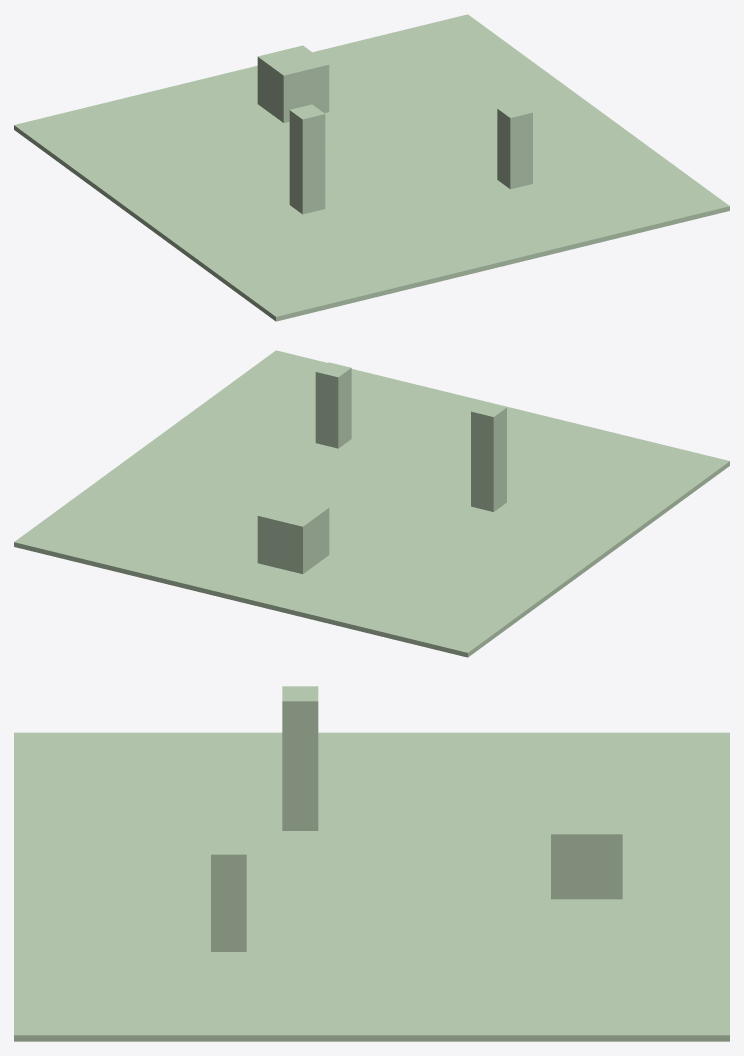
Rendered from bibai-museum.glb.
The picture shows the model from 3 angles, top to bottom: view 1: azimuth 30°, elevation 25°; view 2: azimuth 150°, elevation 25°; view 3: azimuth 270°, elevation 25°; orthographic projection. The views are drawn at different scales.
Parts seen in each view (by area): view 1: bibai-mock; view 2: bibai-mock; view 3: bibai-mock.
Part boxes in pixels (x1,y1,x2,y2): bibai-mock: (14, 14, 729, 321); bibai-mock: (14, 350, 729, 657); bibai-mock: (14, 686, 729, 1041).
Size of the model in its own units: 10 by 2.1 by 10.
